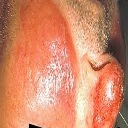Cellulitis: (22, 24, 72, 103), (94, 69, 124, 124)
